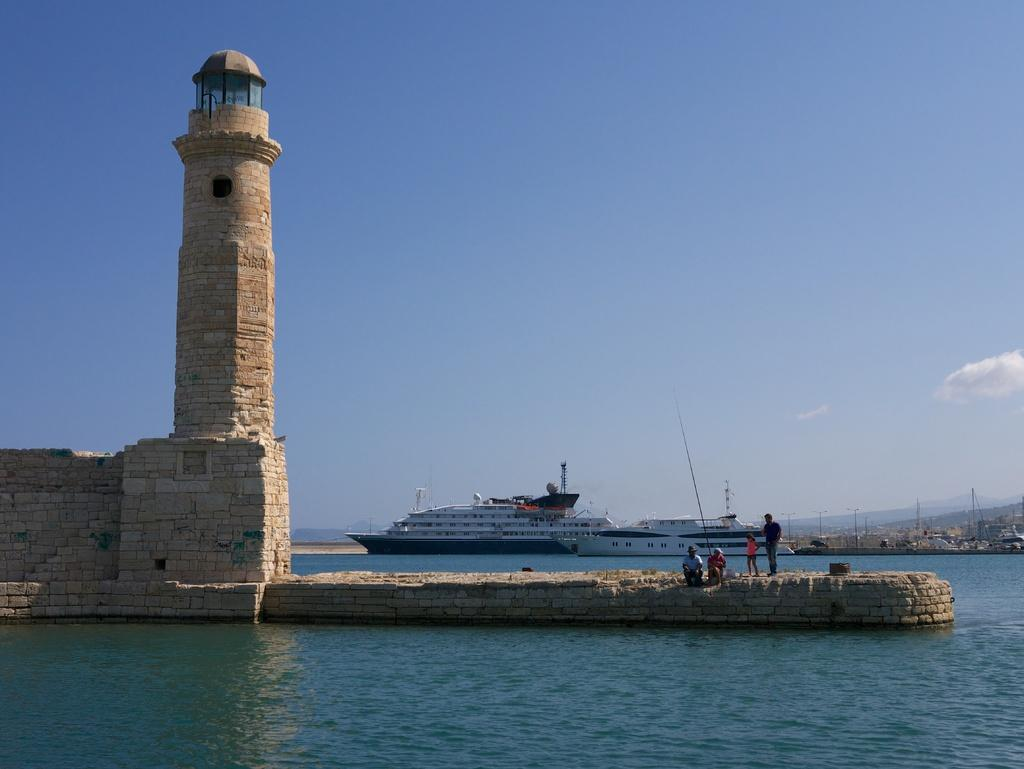PassengerShip: (346, 456, 622, 556), (576, 510, 794, 556)
